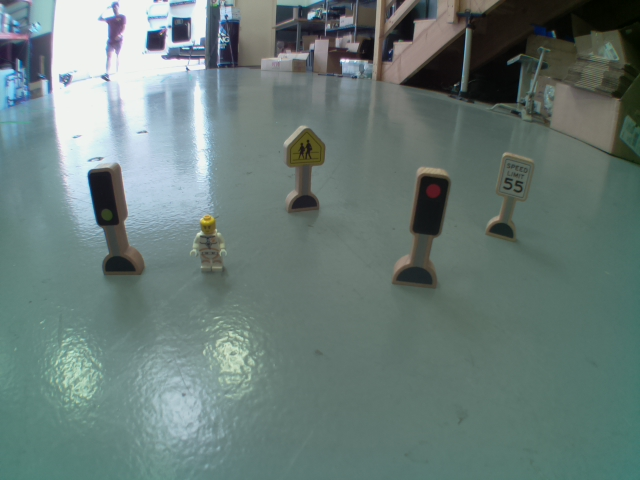Green Traffic Light: (85, 167, 125, 228)
Red Traffic Light: (410, 164, 448, 236)
Speed Limit 55: (496, 153, 531, 199)
YIELD: (281, 124, 326, 168)
person: (185, 213, 233, 276)
